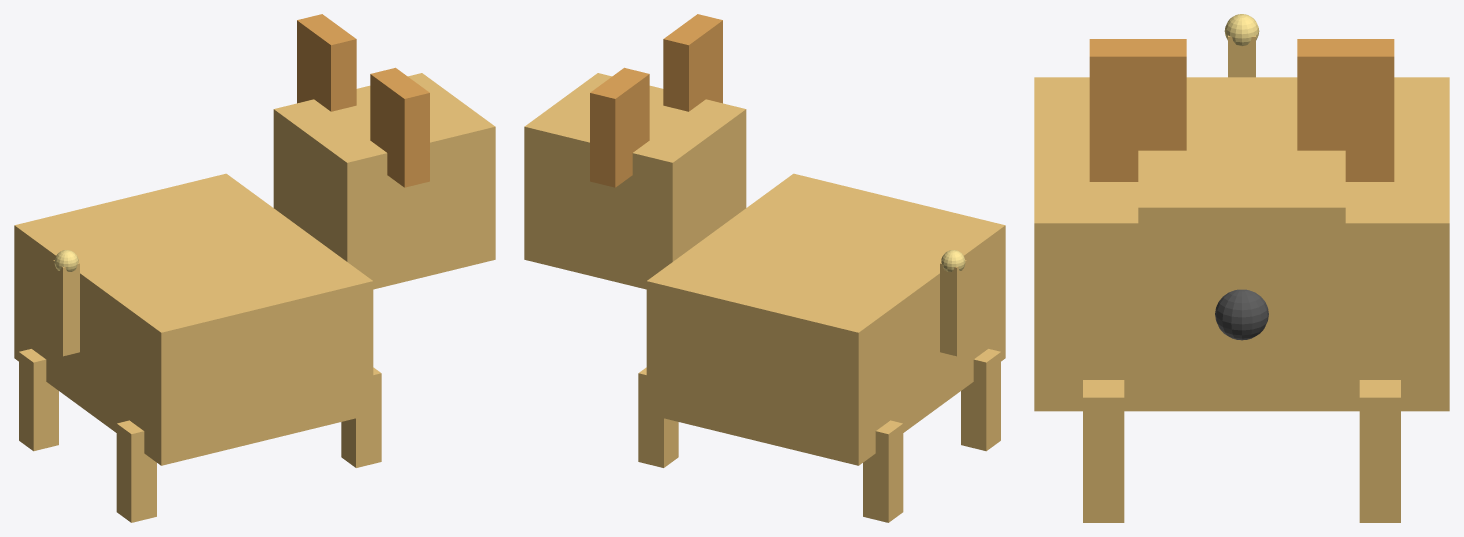
File: pixel_pet_dog.glb
3 renders of one model, left to right at view 1: azimuth 30°, elevation 25°; view 2: azimuth 150°, elevation 25°; view 3: azimuth 270°, elevation 25°, orthographic. The views are drawn at different scales.
Parts seen in each view (by area): view 1: body, head, right_ear, left_ear, back_right_leg, back_left_leg, front_right_leg, tail; view 2: body, head, left_ear, right_ear, back_left_leg, back_right_leg, front_left_leg, tail; view 3: body, head, left_ear, right_ear, front_left_leg, front_right_leg, nose, tail, tail_tip.
Part boxes in pixels (<box>): body: <box>14,173,373,465</box>; head: <box>273,73,495,289</box>; right_ear: <box>370,67,429,187</box>; left_ear: <box>297,14,356,111</box>; back_right_leg: <box>116,420,156,522</box>; back_left_leg: <box>19,349,58,451</box>; front_right_leg: <box>341,367,381,467</box>; tail: <box>53,260,79,356</box>; body: <box>646,173,1005,465</box>; head: <box>524,73,746,289</box>; left_ear: <box>590,67,649,187</box>; right_ear: <box>663,14,722,111</box>; back_left_leg: <box>863,420,903,522</box>; back_right_leg: <box>961,349,1000,451</box>; front_left_leg: <box>638,367,678,467</box>; tail: <box>940,260,966,356</box>; body: <box>1034,77,1449,411</box>; head: <box>1138,105,1345,395</box>; left_ear: <box>1297,39,1394,181</box>; right_ear: <box>1089,39,1186,181</box>; front_left_leg: <box>1359,380,1400,522</box>; front_right_leg: <box>1083,380,1124,522</box>; nose: <box>1215,289,1268,340</box>; tail: <box>1228,35,1255,77</box>; tail_tip: <box>1224,14,1259,45</box>.
Bounding box in the file's own units: 0.985 × 0.8 × 0.6.
